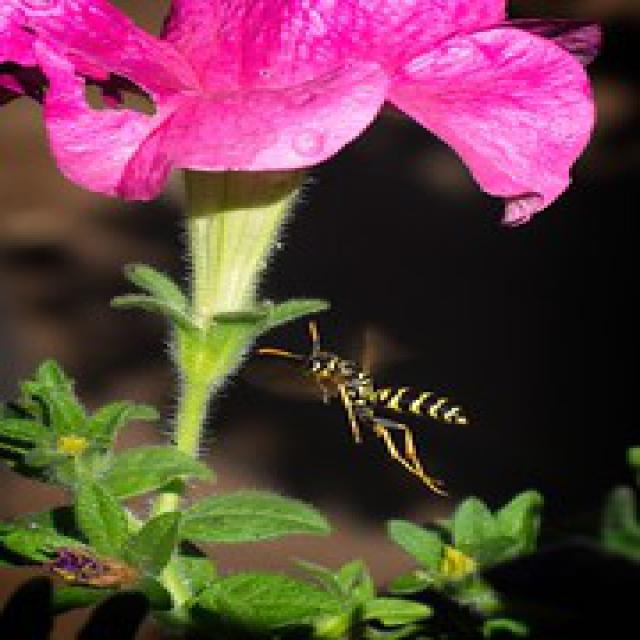Guepe: (246, 310, 509, 492)
